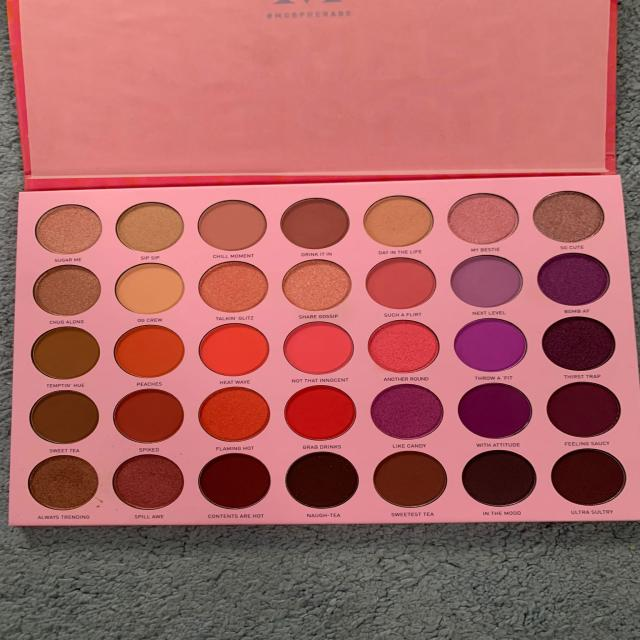eye shade: (24, 440, 625, 514), (24, 376, 635, 446), (30, 313, 621, 382), (30, 188, 621, 251), (30, 251, 614, 312)
